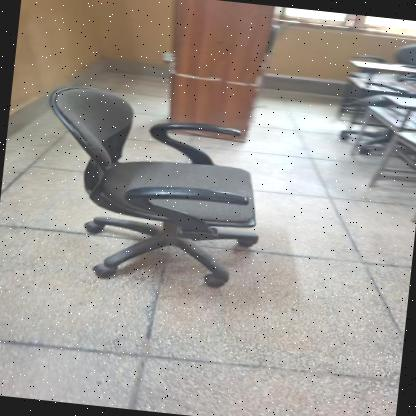chair: (27, 72, 279, 302)
